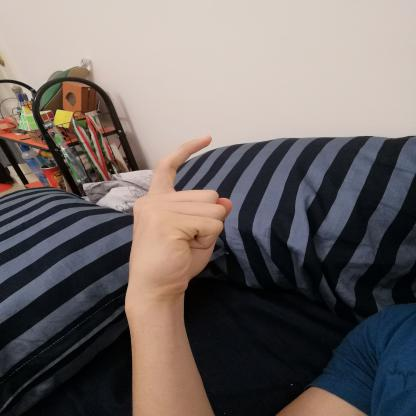RAA: (120, 125, 240, 300)
